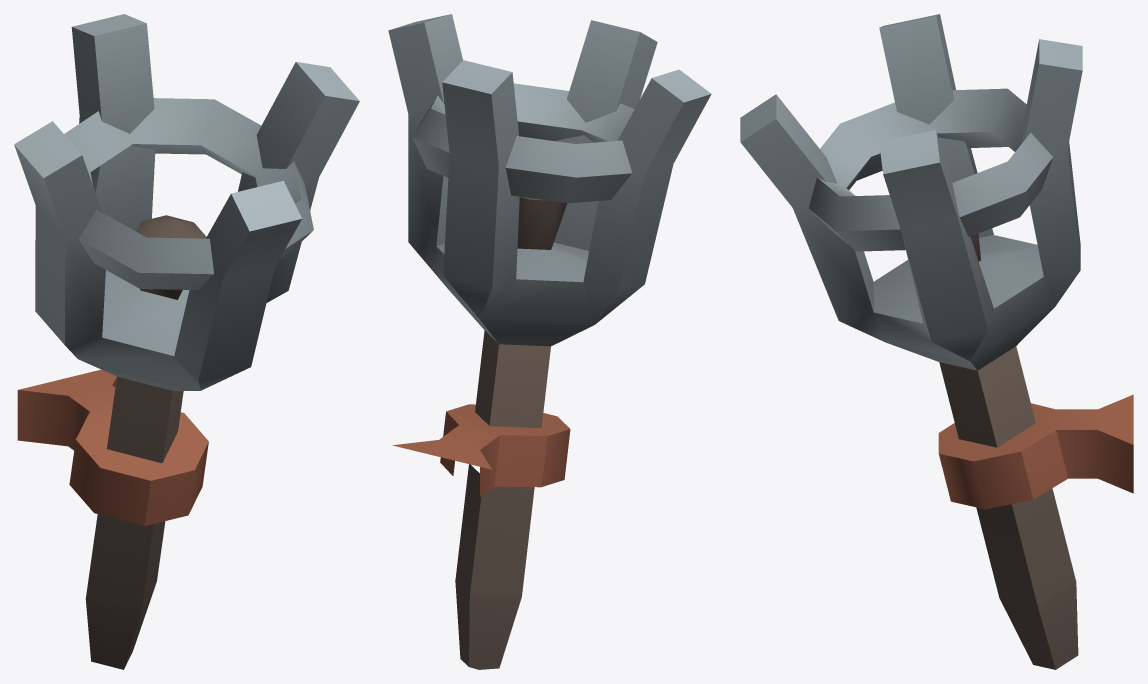
Rendered from torch_mounted5.glb.
3 renders of one model, left to right at view 1: azimuth 30°, elevation 25°; view 2: azimuth 150°, elevation 25°; view 3: azimuth 270°, elevation 25°, orthographic. The views are drawn at different scales.
Visible parts, largest first — view 1: torch_mounted; view 2: torch_mounted; view 3: torch_mounted.
Part boxes in pixels (bbox=[...]): torch_mounted: bbox=[14, 14, 359, 669]; torch_mounted: bbox=[388, 14, 711, 669]; torch_mounted: bbox=[740, 14, 1133, 669].
Bounding box in the file's own units: 0.2751 × 0.5312 × 0.3079.
Materials: 1 (1 with a texture image).
